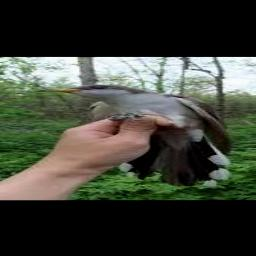Cuckoo: (38, 84, 232, 186)
